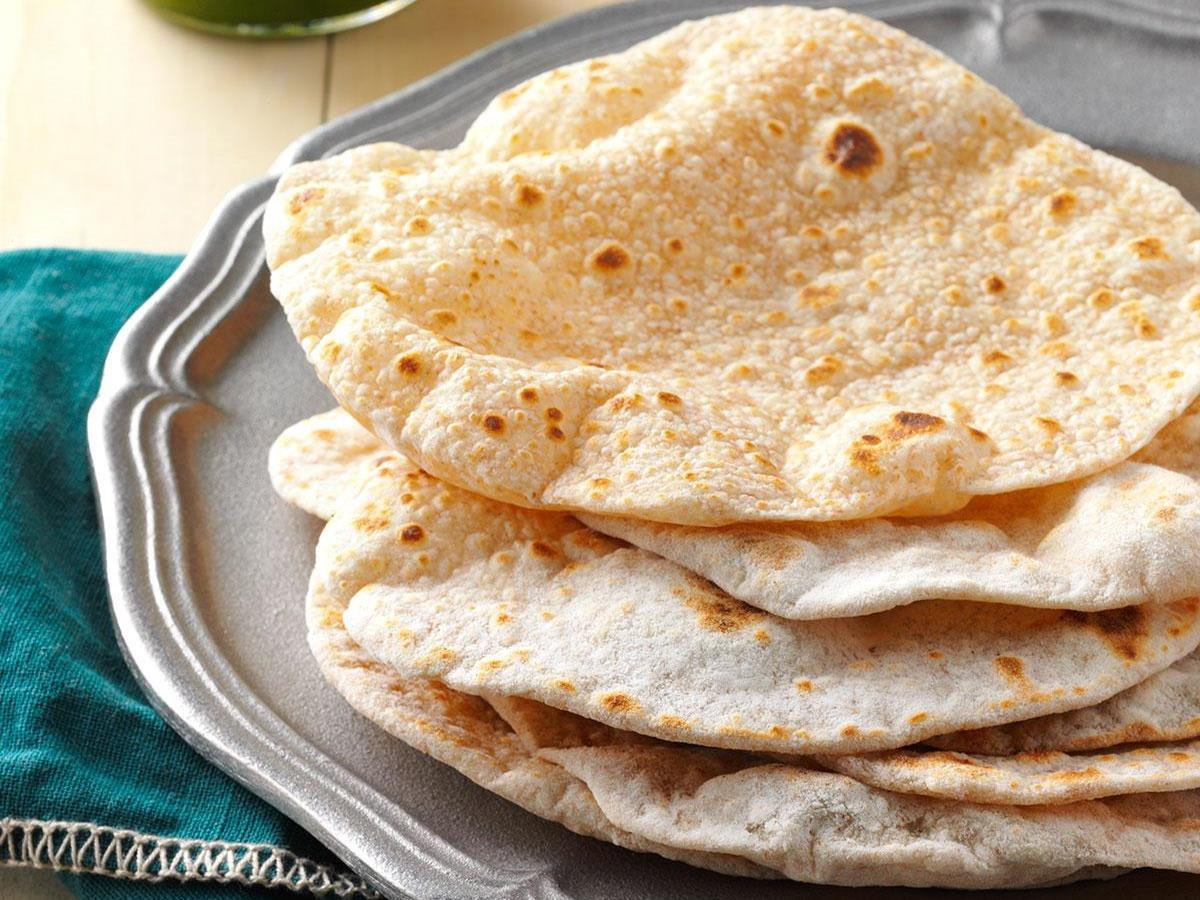roti: (294, 55, 1200, 881)
